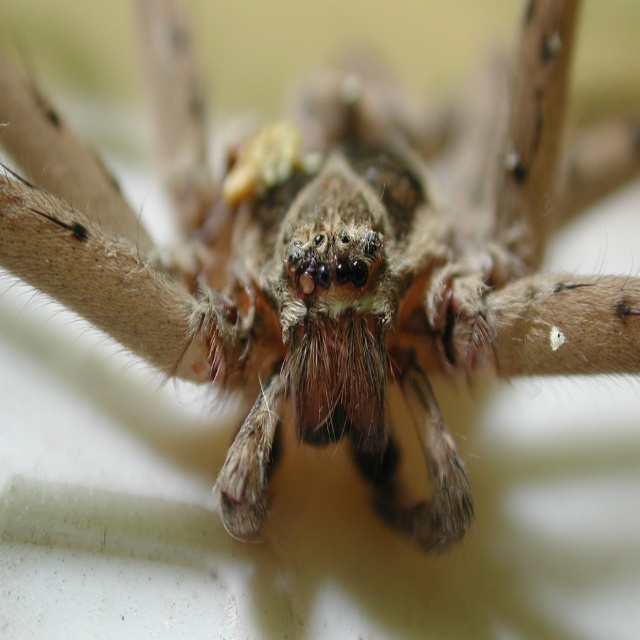Spider: (0, 0, 640, 563)
